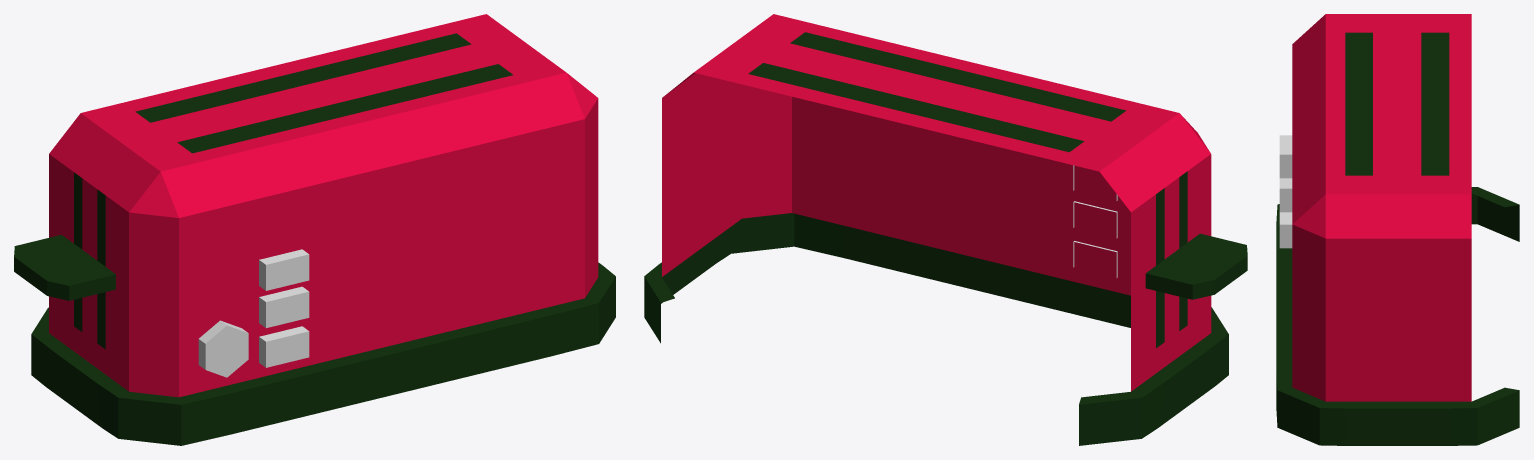
File: propsMaison_toaster.fbx
The picture shows the model from 3 angles, left to right: view 1: azimuth 30°, elevation 25°; view 2: azimuth 150°, elevation 25°; view 3: azimuth 270°, elevation 25°; orthographic projection. The views are drawn at different scales.
Parts seen in each view (by area): view 1: toaster; view 2: toaster; view 3: toaster.
Part boxes in pixels (<box>): toaster: <box>14,14,615,445</box>; toaster: <box>644,14,1247,445</box>; toaster: <box>1276,14,1519,445</box>.
Bounding box in the file's own units: 116 × 51.63 × 49.38.
